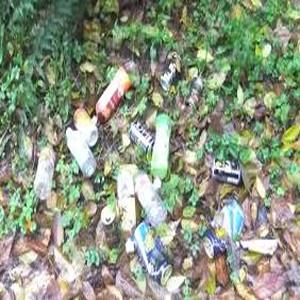Plastic: (135, 169, 167, 225), (153, 115, 172, 189), (34, 136, 55, 202)
